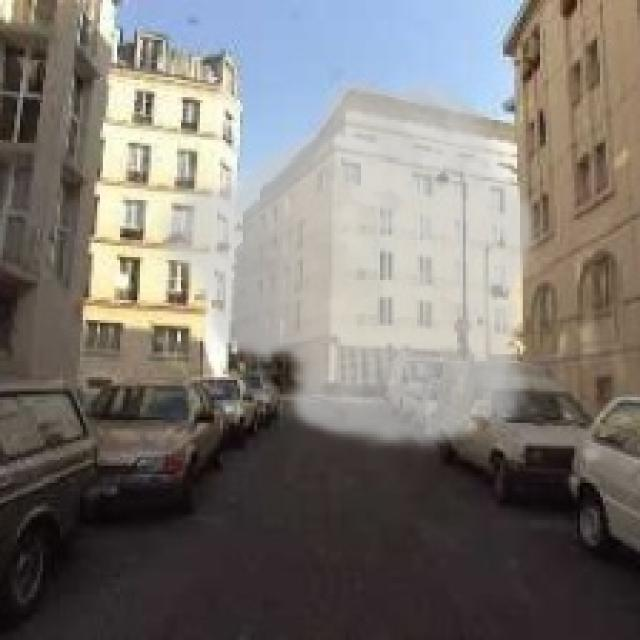Smoke: (148, 66, 543, 454)
